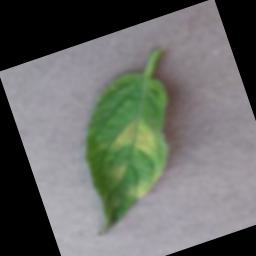Leaf_Mold: (107, 113, 164, 165), (123, 170, 168, 204), (110, 162, 129, 183)
